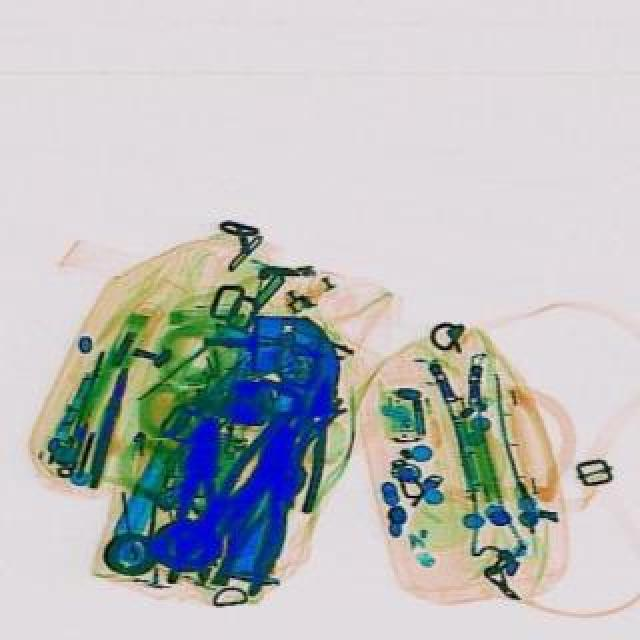wrench: (210, 452, 326, 600), (272, 376, 352, 512), (168, 416, 230, 588)
